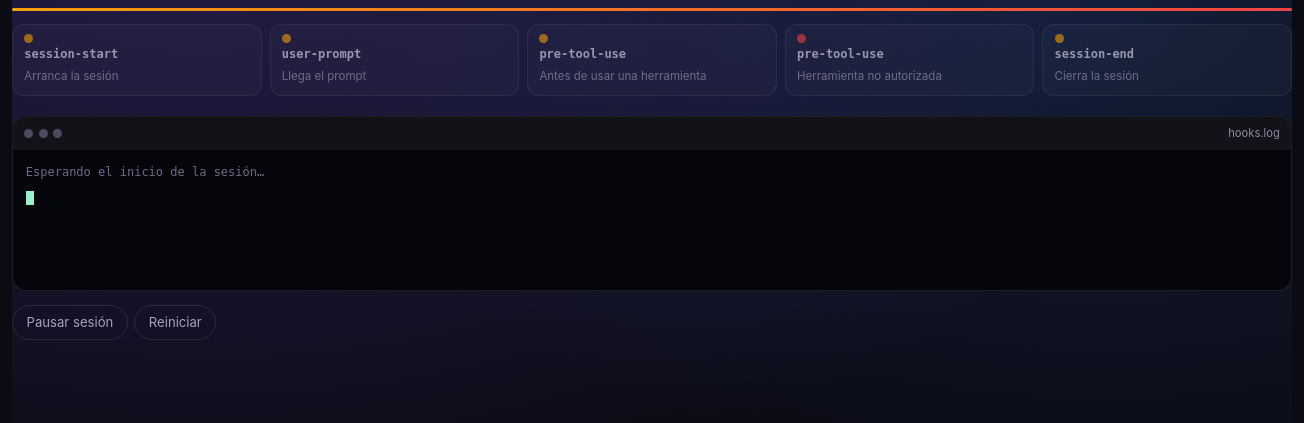
HooksTimeline › registra los eventos del hook seleccionado y permite reiniciar
The width and height of the screenshot is (1304, 423).
Click the button "pre-tool-use Herramienta no autorizada": (910, 60) [785,24,1034,96]
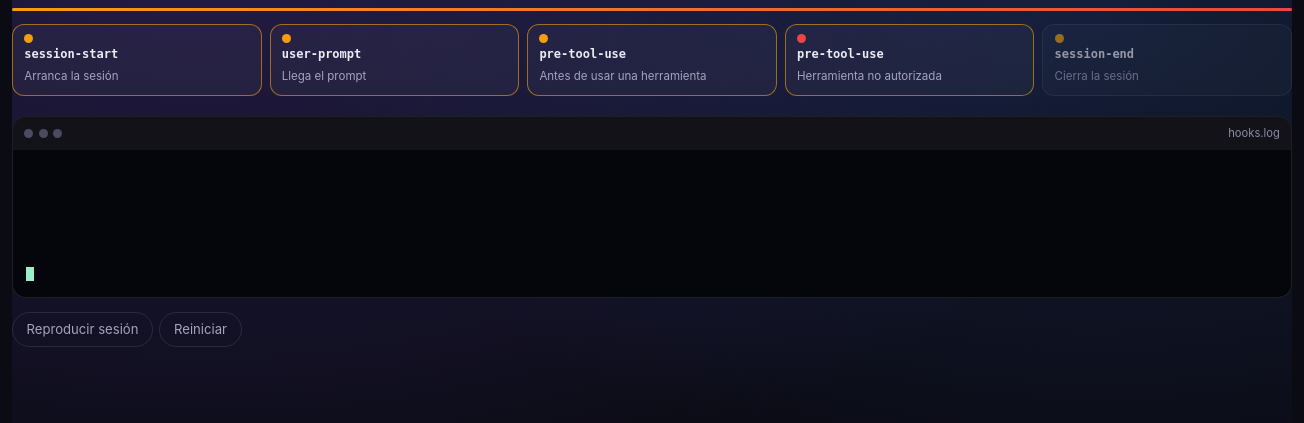
Click the button "Reiniciar": (200, 330) [159,312,242,347]
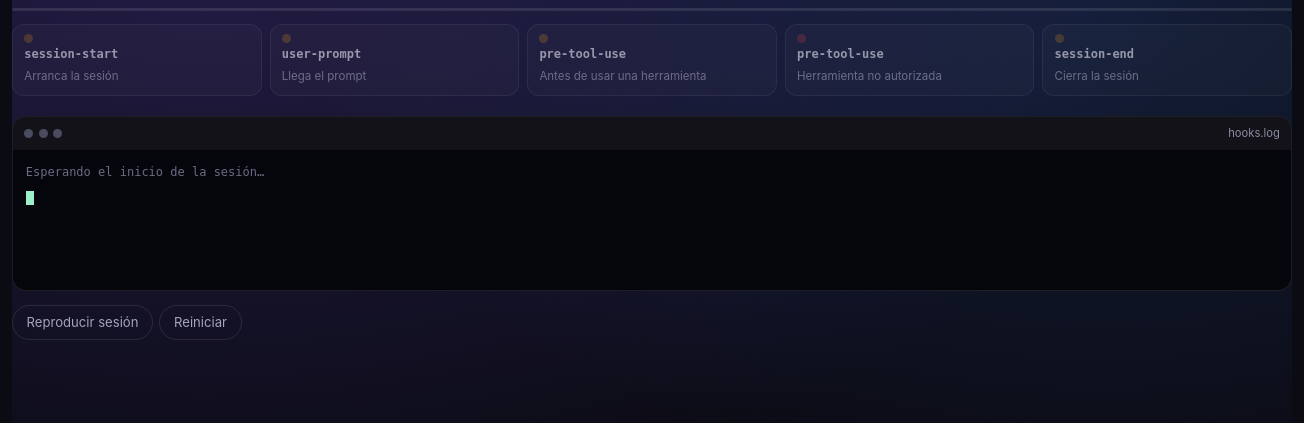
expect the text "Esperando el inicio de la sesión…" is shown: met, box [26,165,264,179]
